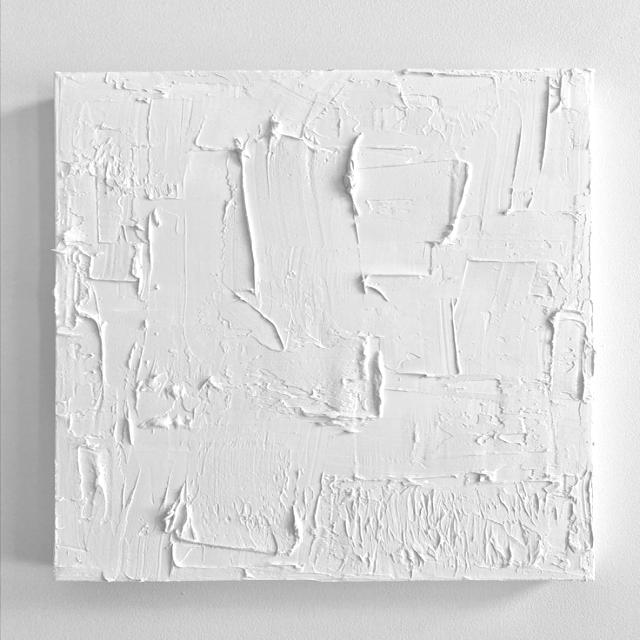trowels marks: (52, 67, 598, 579)
